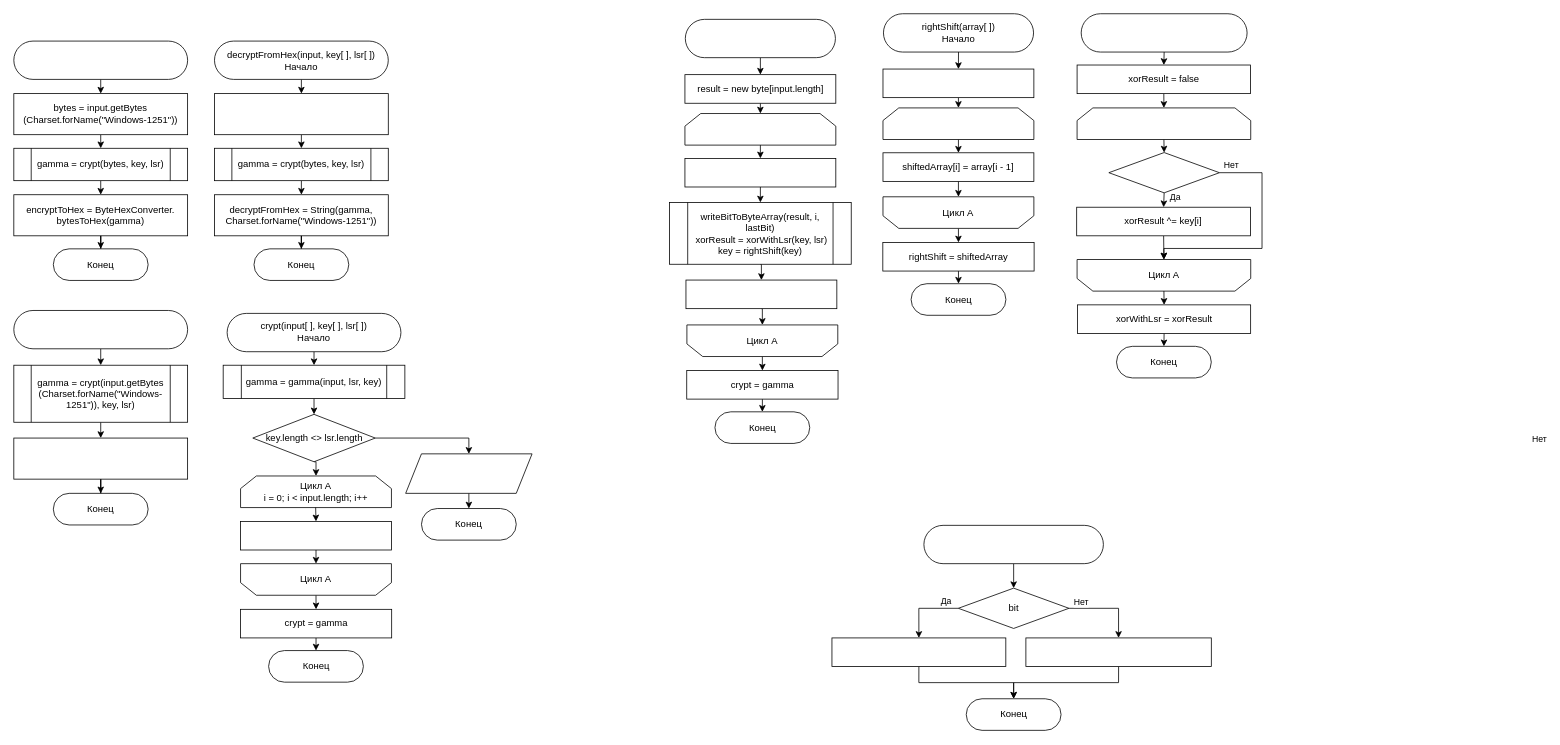
Image size: 1560x745. Some labels were removed from this diagram. Here are the shapes that lost their labels. From the top down, the box of each, then its label:
(685, 19, 835, 58): gamma(input[ ], key[ ], lsr[ ]) Начало
(1080, 13, 1247, 52): xorWithLsr(key[ ], lsr[ ]) Начало
(13, 40, 188, 79): encryptToHex(input, key[ ], lsr[ ]) Начало
(882, 68, 1034, 98): shiftedArray = new boolean[array.length]
(214, 93, 388, 135): bytes = ByteHexConverter. hexToBytes(hex)
(684, 113, 836, 145): Цикл А i = input.length * 8 - 1; i >= 0; i--
(882, 107, 1034, 140): Цикл А i = 1; i < array.length; i++
(1076, 107, 1251, 140): Цикл А i = 0; i < key.length && i < lsr.length; i++
(684, 158, 836, 187): lastBit = key[key.length - 1]
(1108, 152, 1219, 193): lsr[i]
(685, 279, 837, 309): key[0] = xorResult
(13, 310, 188, 349): crypt(input, key[ ], lsr[ ]) Начало
(13, 437, 188, 479): crypt = String(gamma, Charset.forName("Windows-1251"))
(405, 453, 532, 493): Длина ключа не равна длине lsr
(240, 521, 391, 550): gamma[i] ^= input[i]
(923, 525, 1103, 564): writeBitToByteArray(byteArray, index, bit) Начало
(831, 637, 1006, 667): byteArray[index / 8] |= (1 << (index % 8))
(1025, 637, 1211, 667): byteArray[index / 8] &= ~(1 << (index % 8))
